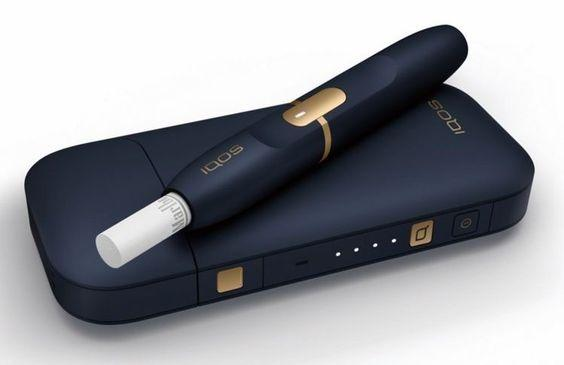iqos: (97, 26, 466, 268)
